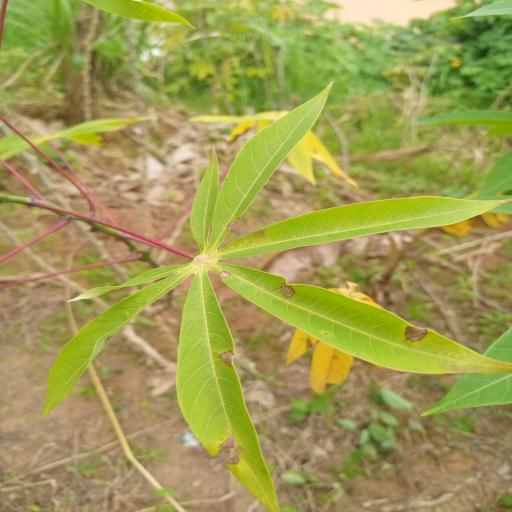Cassava_Brown_Leaf_Spot: (42, 72, 507, 512)
